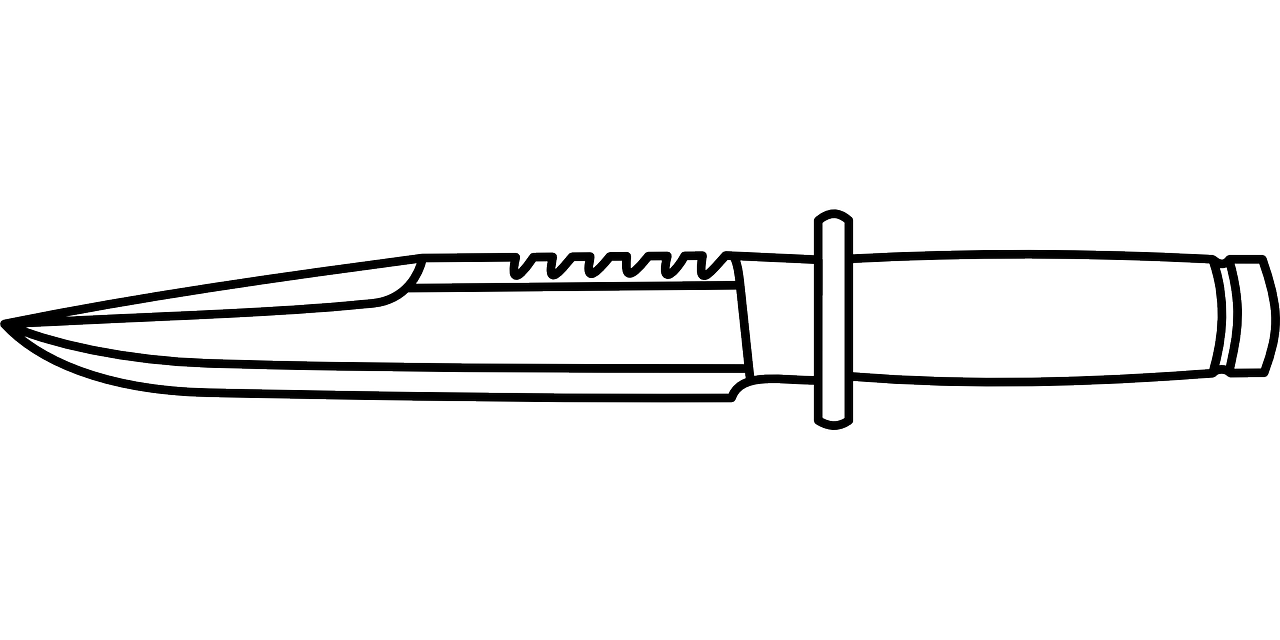knife: (6, 214, 1280, 424)
